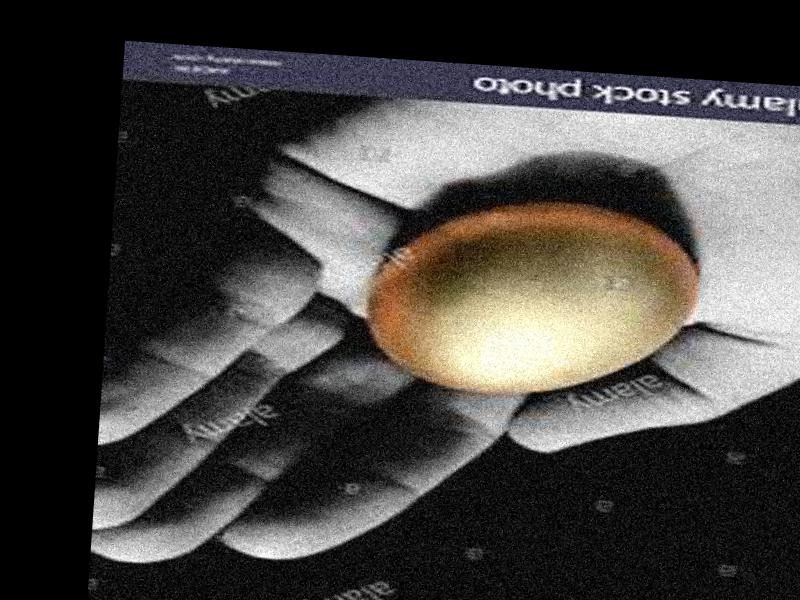Eggs: (361, 193, 698, 405)
